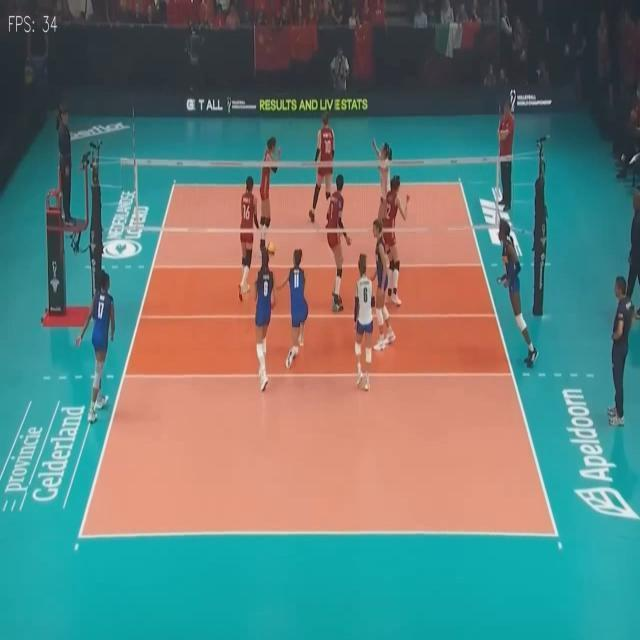volleyball: (266, 242, 276, 258)
